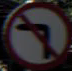Don't turn left: (4, 7, 58, 63)
